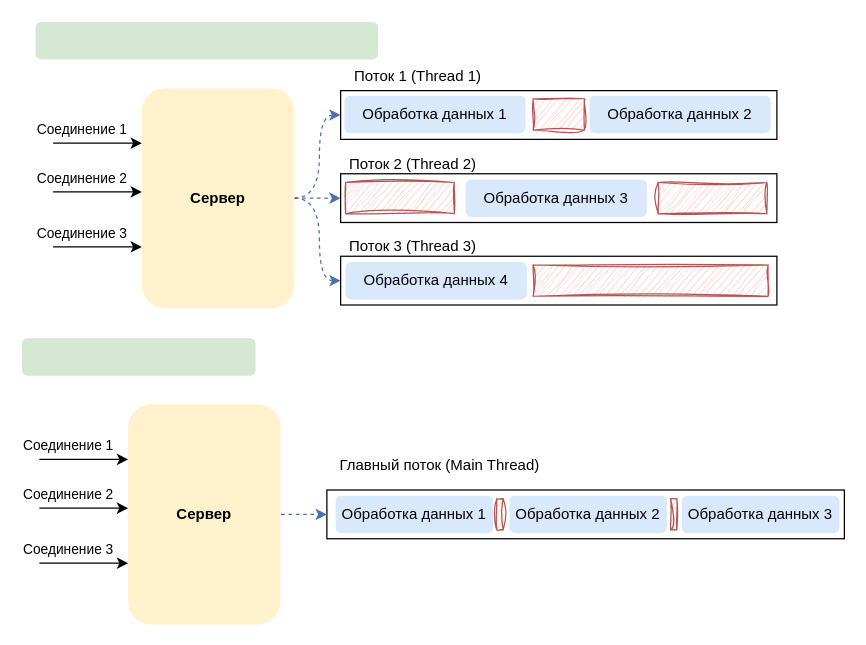
The diagram is 866 pixels wide and 645 high, and some of its shapes have lost their labels. Here are the shapes that lost their labels. From the top down, the centre of each, then its label:
At (206,40): "Блокирующий ввод/вывод. Многопоточность".
At (138,356): "Неблокирующий ввод/вывод".
